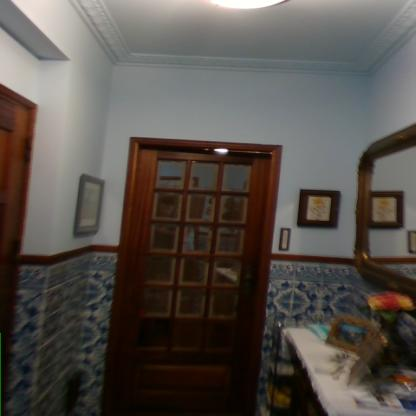closed: (103, 128, 279, 394)
